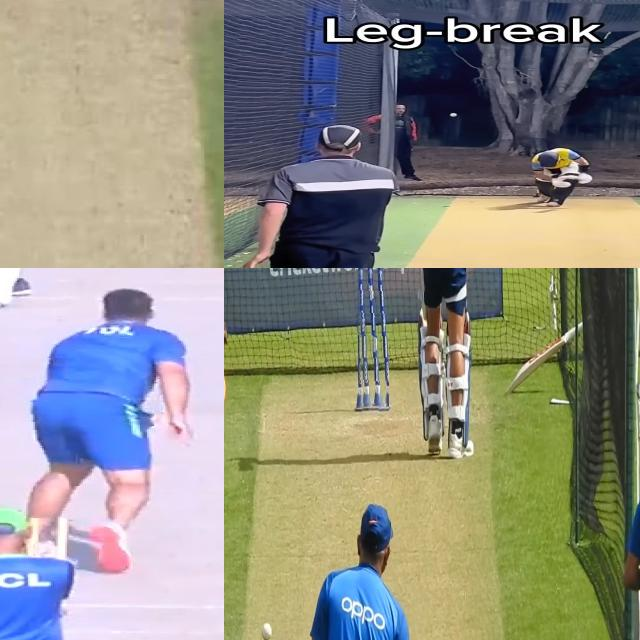Cricket ball: (259, 618, 275, 640), (450, 113, 458, 117)
Stumps: (354, 268, 389, 412)
